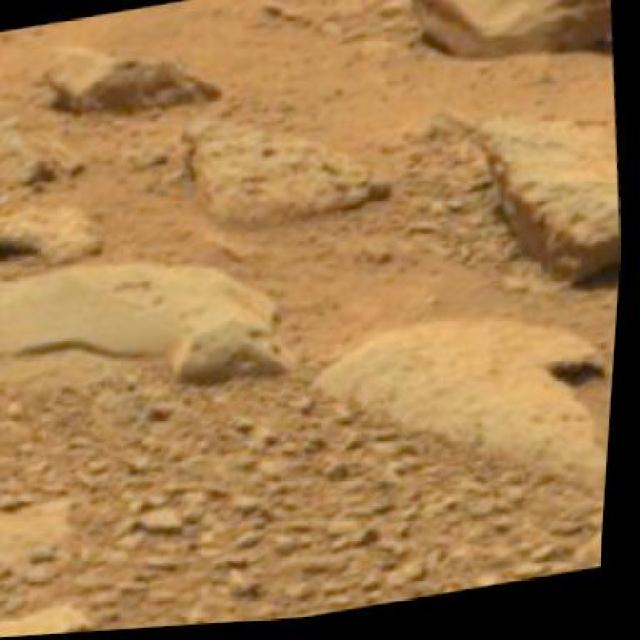rock: (304, 293, 622, 533), (0, 220, 308, 442), (458, 100, 632, 306), (400, 0, 617, 92), (449, 0, 609, 9), (570, 0, 612, 18)
